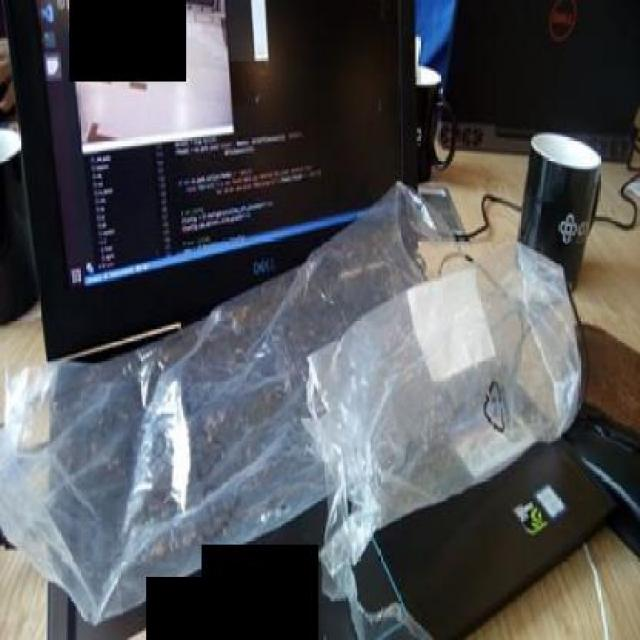plastic bag: (0, 103, 626, 611), (269, 221, 600, 537)
